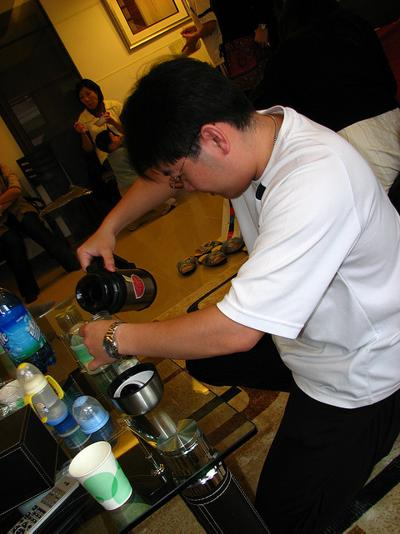person: (77, 56, 400, 533)
